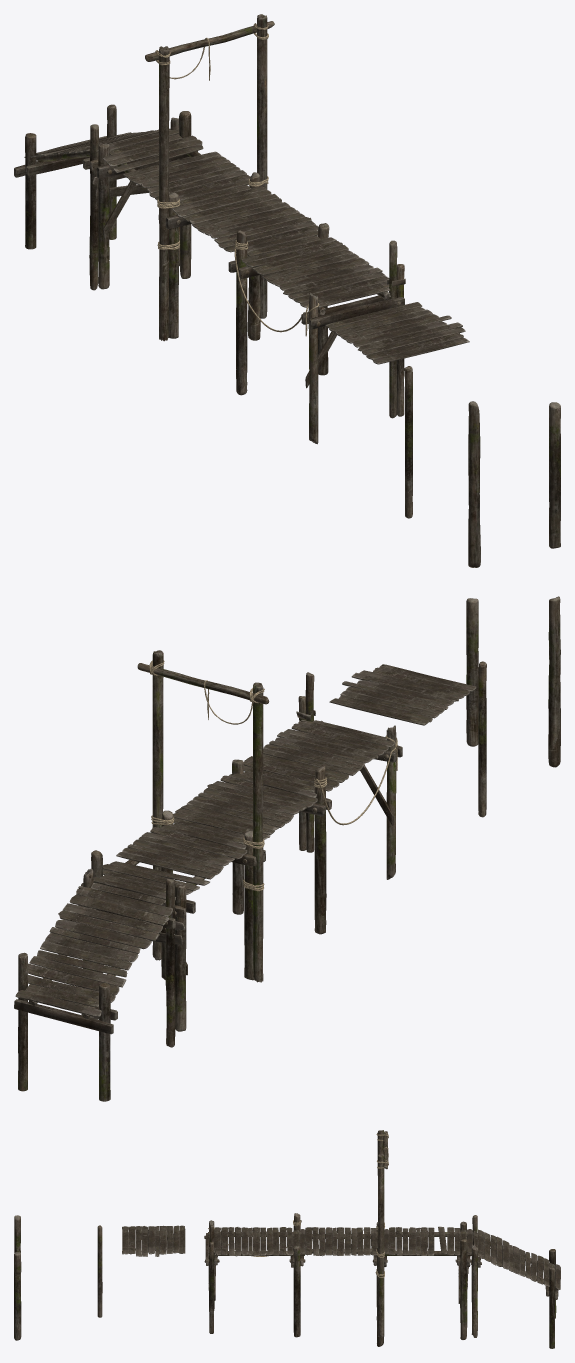
The model's file is modular_wooden_pier.glb.
3 views of the same model, one above another, from view 1: azimuth 30°, elevation 25°; view 2: azimuth 150°, elevation 25°; view 3: azimuth 270°, elevation 25° (orthographic). The views are drawn at different scales.
Visible parts, largest first — view 1: modular_wooden_pier_planks, modular_wooden_pier_section_01, modular_wooden_pier_poles; view 2: modular_wooden_pier_planks, modular_wooden_pier_section_01, modular_wooden_pier_poles; view 3: modular_wooden_pier_planks, modular_wooden_pier_section_01, modular_wooden_pier_poles.
Boxes of the visible parts, <box> form: modular_wooden_pier_planks: <box>14,23,469,388</box>; modular_wooden_pier_section_01: <box>25,14,404,444</box>; modular_wooden_pier_poles: <box>404,366,560,567</box>; modular_wooden_pier_planks: <box>14,660,476,1034</box>; modular_wooden_pier_section_01: <box>18,650,396,1101</box>; modular_wooden_pier_poles: <box>466,596,560,817</box>; modular_wooden_pier_planks: <box>122,1132,560,1303</box>; modular_wooden_pier_section_01: <box>204,1130,558,1348</box>; modular_wooden_pier_poles: <box>14,1215,102,1340</box>.
Bounding box in the file's own units: 3.1 × 7.52 × 19.03.
Materials: 2 (2 with a texture image).
